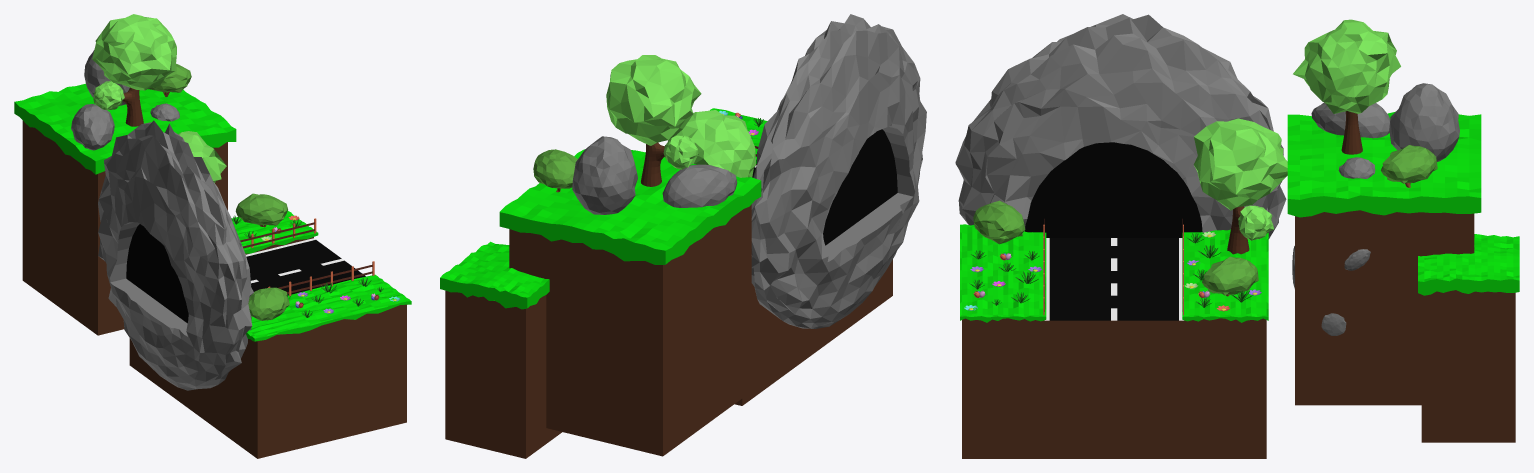
The model's file is Island.fbx.
The picture shows the model from 3 angles, left to right: view 1: azimuth 30°, elevation 25°; view 2: azimuth 150°, elevation 25°; view 3: azimuth 270°, elevation 25°; orthographic projection. The views are drawn at different scales.
Parts seen in each view (by area): view 1: Cube, Icosphere.031, Cylinder, Cube.002, Plane.007, Cube.004, Cube.003; view 2: Icosphere.031, Cylinder, Cube.001, Cube, Cube.002; view 3: Cube, Icosphere.031, Cylinder, Cube.001, Cube.002, Plane.007.
Part boxes in pixels (<box>): Cube: <box>129,211,411,458</box>; Icosphere.031: <box>14,14,236,335</box>; Cylinder: <box>98,120,253,390</box>; Cube.002: <box>178,131,301,240</box>; Plane.007: <box>248,278,400,320</box>; Cube.004: <box>268,261,374,296</box>; Cube.003: <box>240,218,316,248</box>; Icosphere.031: <box>499,55,761,456</box>; Cylinder: <box>751,14,926,328</box>; Cube.001: <box>440,241,562,458</box>; Cube: <box>710,108,892,405</box>; Cube.002: <box>668,110,755,177</box>; Cube: <box>960,224,1268,458</box>; Icosphere.031: <box>1287,19,1481,405</box>; Cylinder: <box>955,14,1286,238</box>; Cube.001: <box>1418,234,1519,442</box>; Cube.002: <box>1184,118,1287,311</box>; Plane.007: <box>964,200,1041,310</box>.
Bounding box in the file's own units: 1110 × 1604 × 2223.
